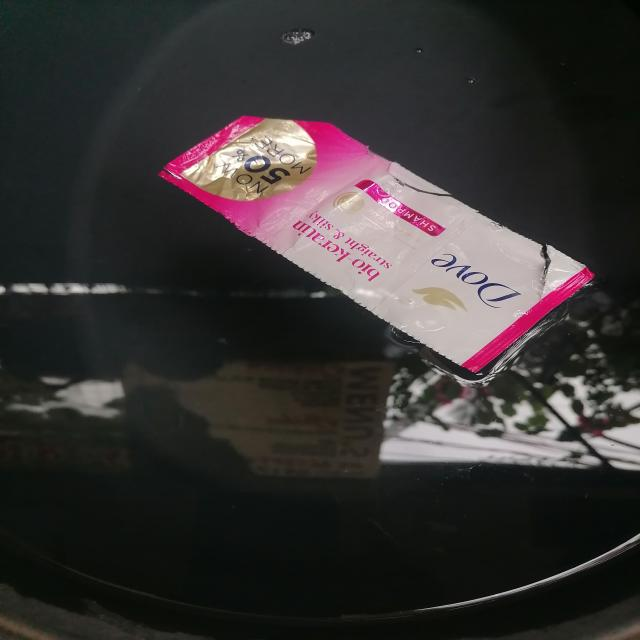Plastic Wrapper: (159, 116, 593, 384)
